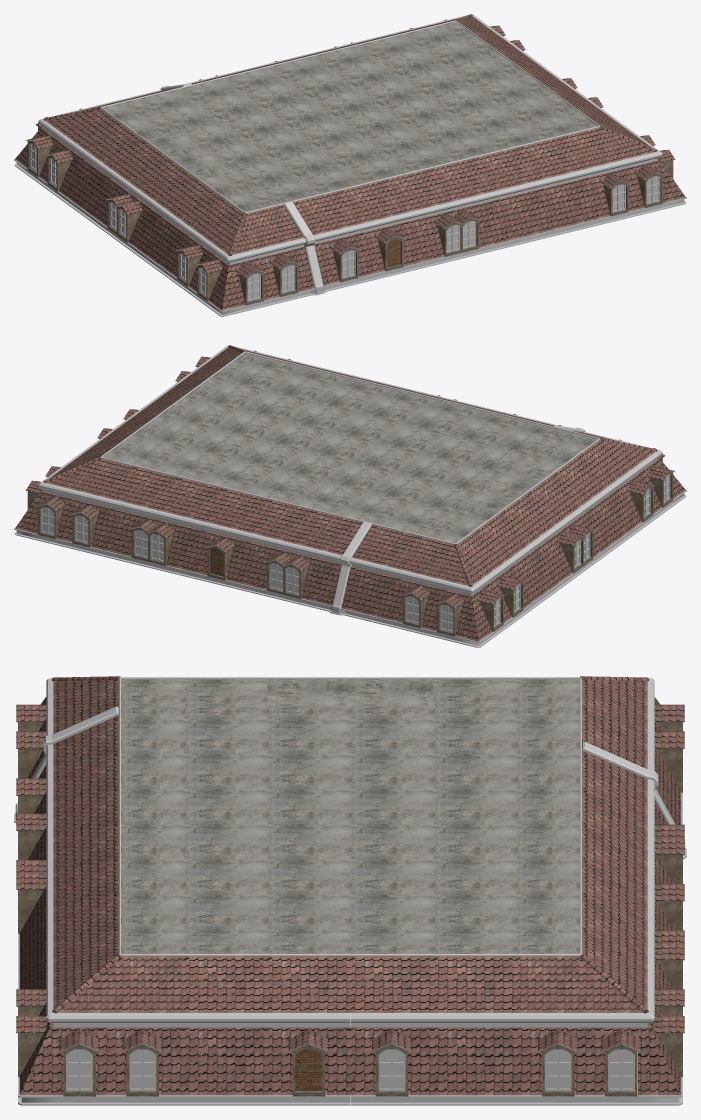
Rendered from Build7_el3.fbx.
3 views of the same model, one above another, from view 1: azimuth 30°, elevation 25°; view 2: azimuth 150°, elevation 25°; view 3: azimuth 270°, elevation 25° (orthographic). The views are drawn at different scales.
Parts seen in each view (by area): view 1: polySurface3; view 2: polySurface3; view 3: polySurface3.
Boxes of the visible parts, box(x1,y1,x2,y2) form: polySurface3: box(14, 14, 686, 316); polySurface3: box(14, 345, 686, 647); polySurface3: box(14, 676, 686, 1105).
Size of the model in its own units: 16.62 by 2.33 by 12.96.
